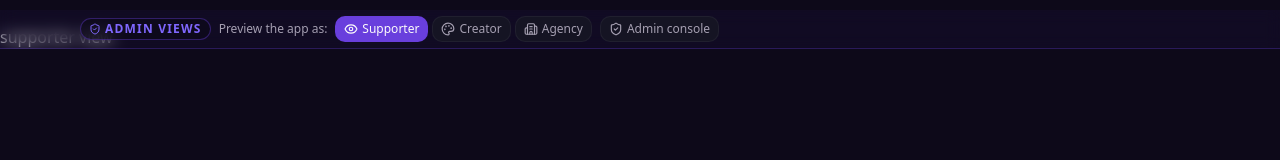
Test: AdminViewSwitcher › clicking Agency navigates to /agency and renders the agency page
Step 1. Click the link with aria-label "Agency view" → [553, 29], box top-left (515, 16), bottom-right (592, 42)
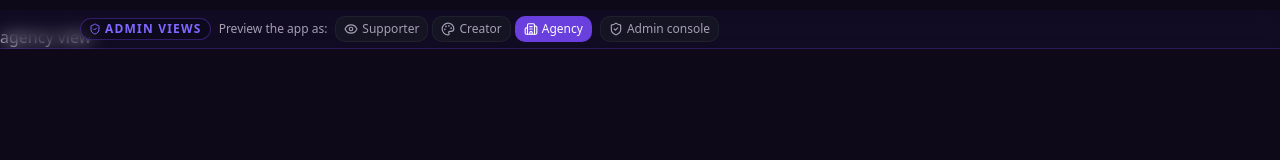
Check: the text "agency view" is shown, box top-left (0, 26), bottom-right (91, 48)
